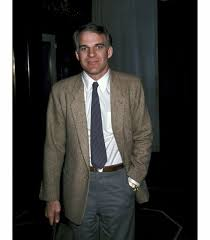F_M_suit jacket: (46, 73, 151, 208)
F_belt: (77, 161, 136, 176)
F_tie: (84, 80, 110, 169)
